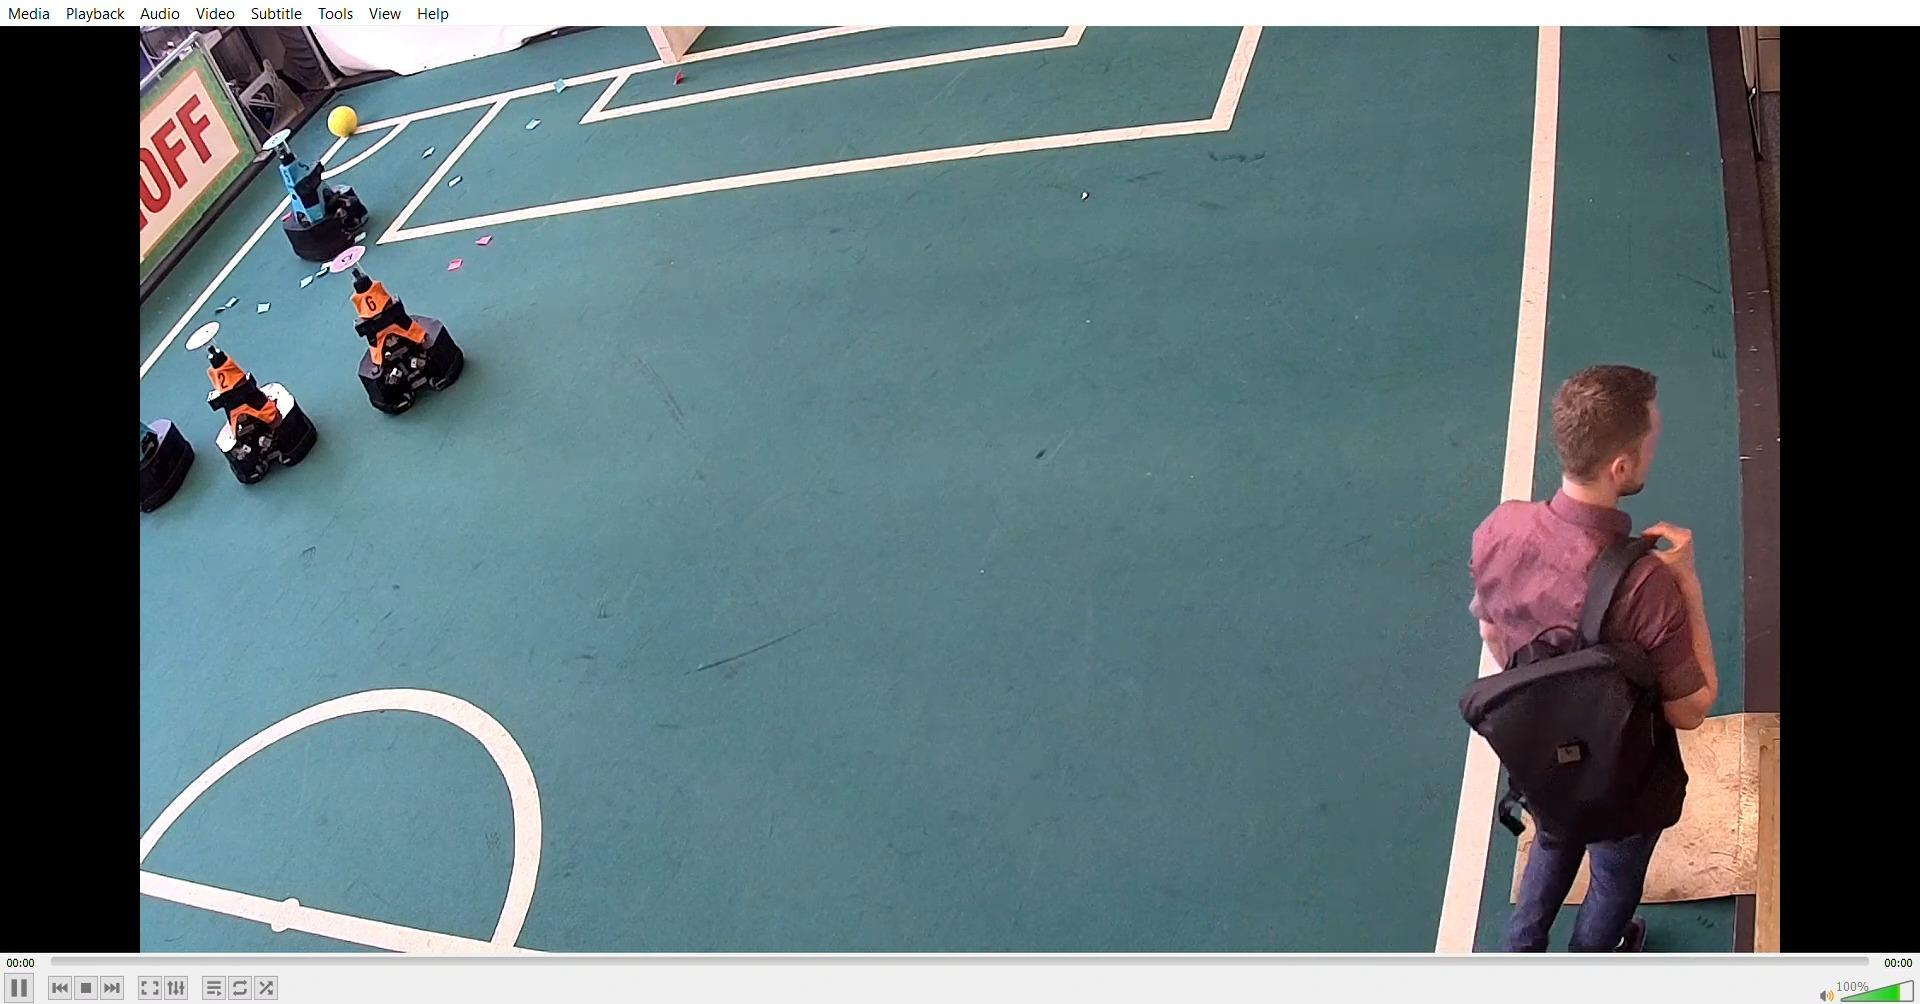Ball: (335, 104, 368, 136)
Team_Blue: (262, 129, 373, 264)
Team_Red: (319, 239, 467, 410), (182, 314, 323, 486)
